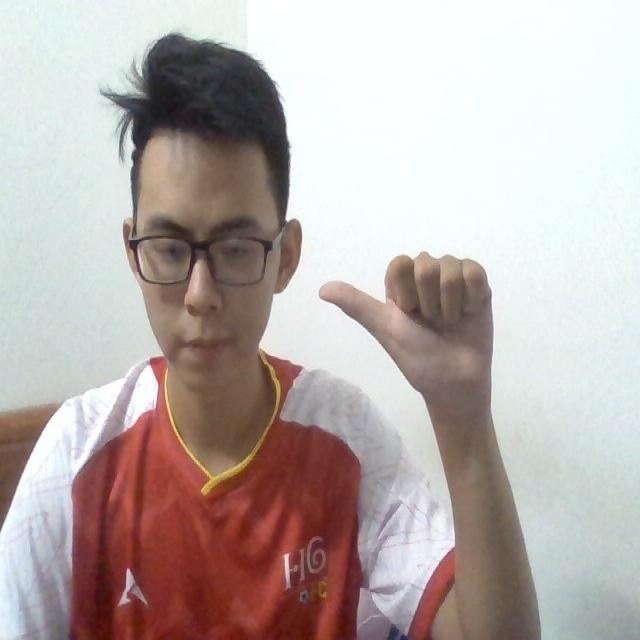A: (319, 245, 499, 410)
